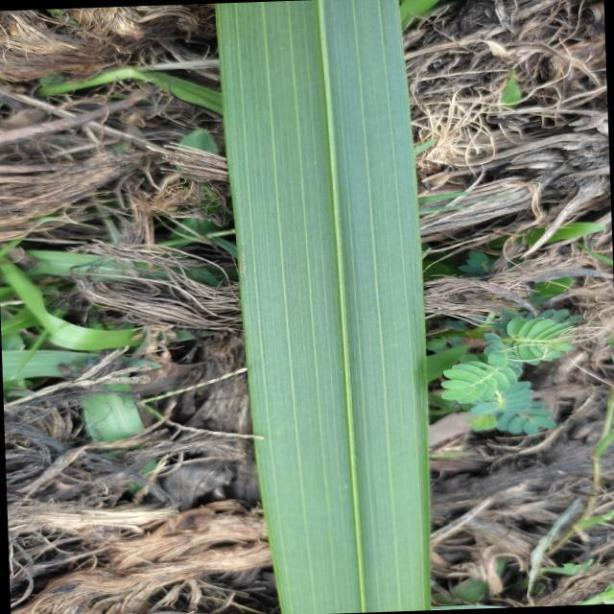Healthy: (218, 0, 434, 614)
